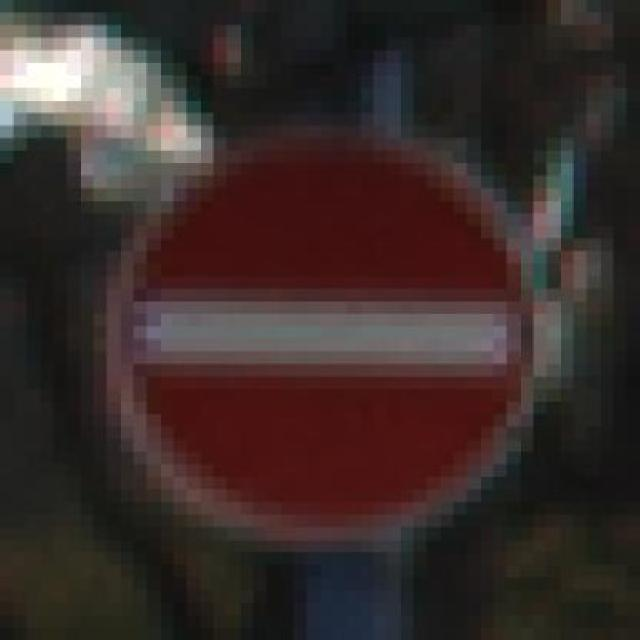No Entry: (80, 75, 560, 552)
